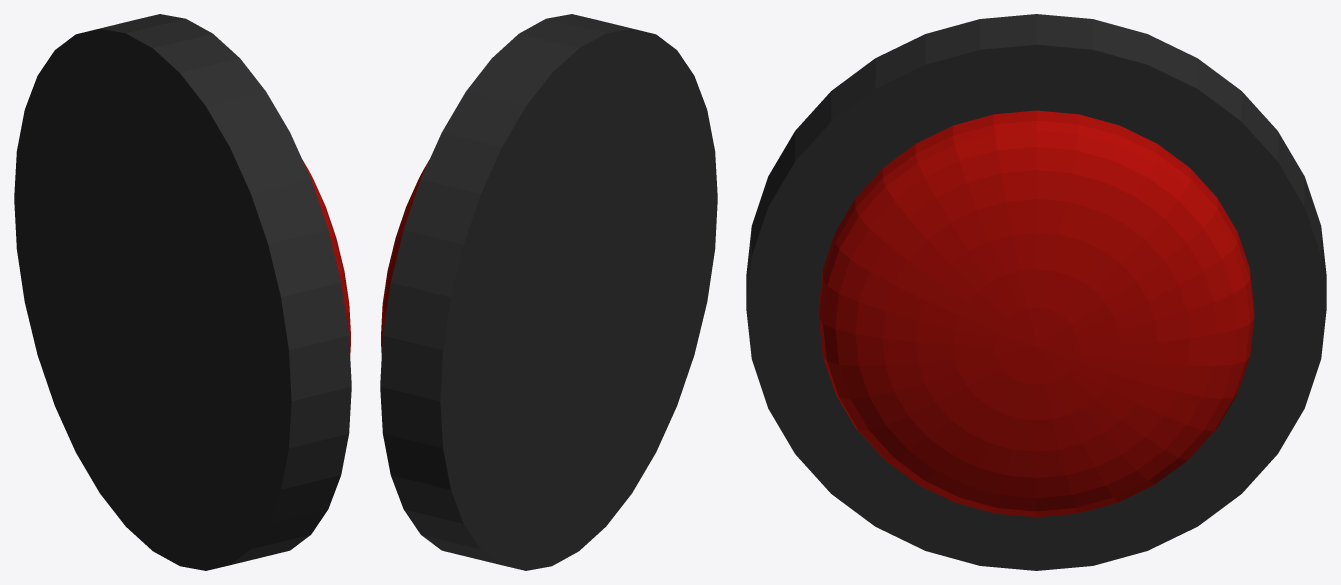
The model's file is button.fbx.
3 renders of one model, left to right at view 1: azimuth 30°, elevation 25°; view 2: azimuth 150°, elevation 25°; view 3: azimuth 270°, elevation 25°, orthographic. The views are drawn at different scales.
Parts seen in each view (by area): view 1: Cylinder, Sphere; view 2: Cylinder, Sphere; view 3: Sphere, Cylinder.
Boxes of the visible parts, x1,y1,x2,y2 form: Cylinder: [14, 14, 351, 570]; Sphere: [302, 160, 350, 354]; Cylinder: [380, 14, 717, 570]; Sphere: [381, 160, 429, 354]; Sphere: [818, 110, 1254, 517]; Cylinder: [746, 14, 1326, 570].
Bounding box in the file's own units: 4.56 × 16 × 16.
